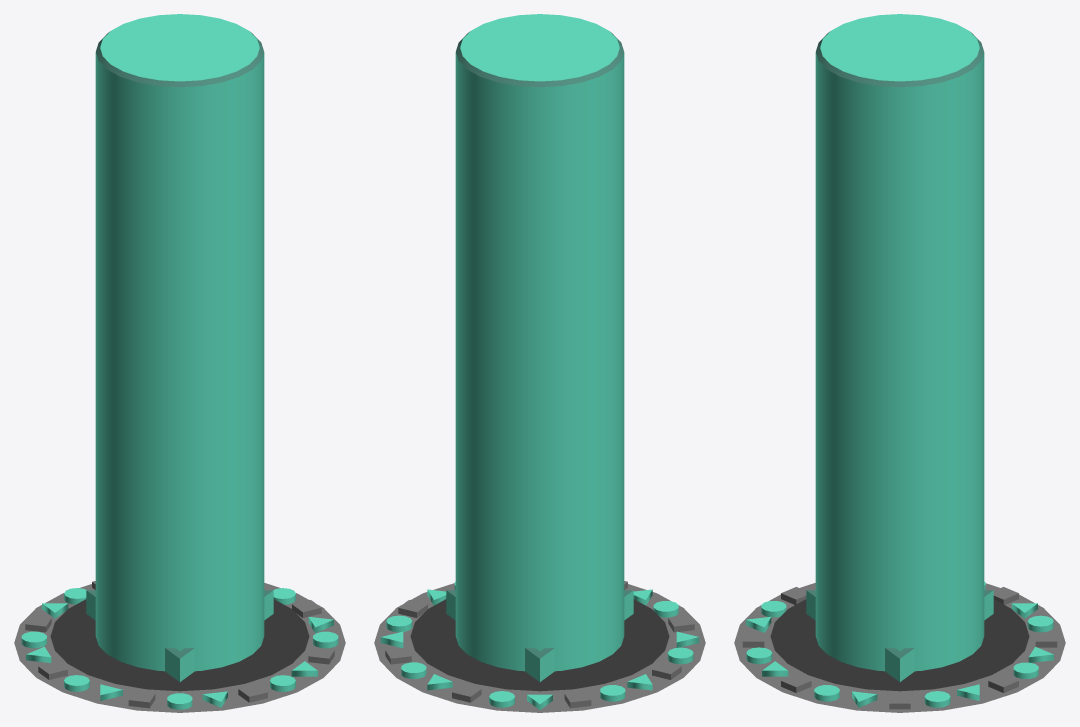
File: base_circle_triangle_objects.fbx
The picture shows the model from 3 angles, left to right: view 1: azimuth 30°, elevation 25°; view 2: azimuth 150°, elevation 25°; view 3: azimuth 270°, elevation 25°; orthographic projection.
Parts seen in each view (by area): view 1: tube_circle, PT_triangle_circle, plateau_circle, tube_circle001, prisme001; view 2: tube_circle, PT_triangle_circle, plateau_circle, tube_circle001, prisme001; view 3: tube_circle, PT_triangle_circle, plateau_circle, tube_circle001, prisme001.
Part boxes in pixels (bbox=[...]): tube_circle: bbox=[95, 14, 264, 671]; PT_triangle_circle: bbox=[14, 581, 345, 712]; plateau_circle: bbox=[50, 599, 309, 691]; tube_circle001: bbox=[95, 611, 264, 670]; prisme001: bbox=[86, 590, 273, 681]; tube_circle: bbox=[455, 14, 624, 671]; PT_triangle_circle: bbox=[374, 581, 705, 712]; plateau_circle: bbox=[410, 599, 669, 691]; tube_circle001: bbox=[455, 611, 623, 671]; prisme001: bbox=[446, 590, 633, 681]; tube_circle: bbox=[815, 14, 984, 671]; PT_triangle_circle: bbox=[734, 581, 1065, 712]; plateau_circle: bbox=[770, 599, 1029, 691]; tube_circle001: bbox=[815, 611, 984, 670]; prisme001: bbox=[806, 590, 993, 681].
Size of the model in its own units: 30.13 by 30.13 by 59.68.
